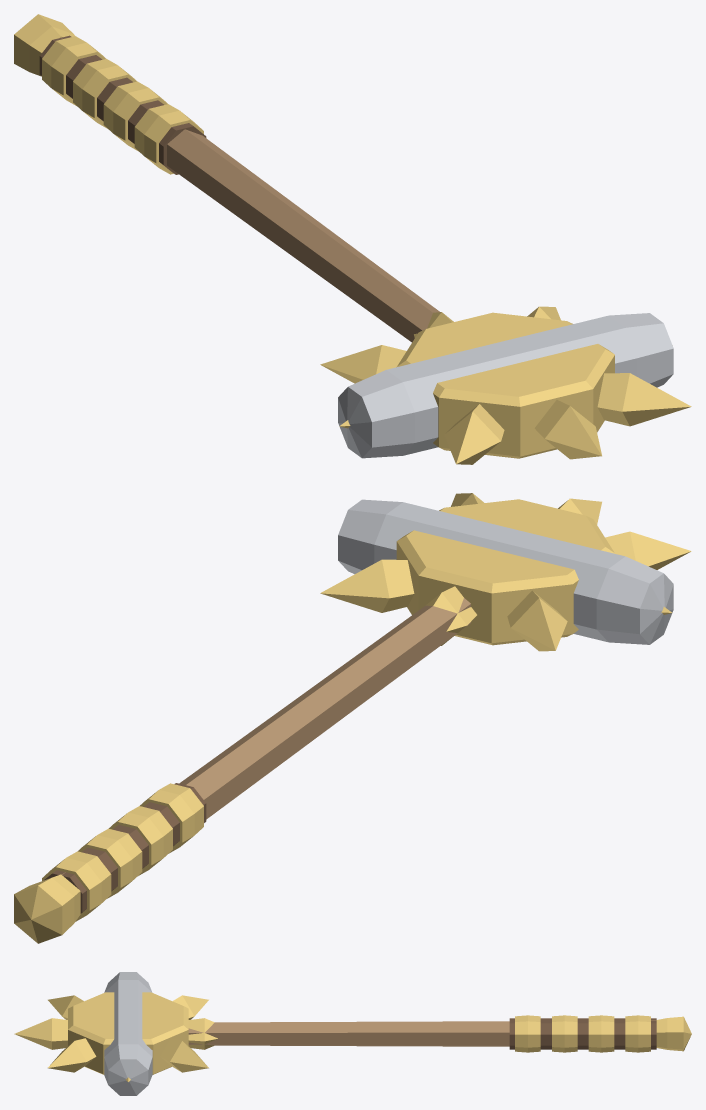
File: dawnbreaker.glb
The picture shows the model from 3 angles, top to bottom: view 1: azimuth 30°, elevation 25°; view 2: azimuth 150°, elevation 25°; view 3: azimuth 270°, elevation 25°; orthographic projection. The views are drawn at different scales.
Parts seen in each view (by area): view 1: dawnbreaker; view 2: dawnbreaker; view 3: dawnbreaker.
Part boxes in pixels (x1,y1,x2,y2): dawnbreaker: (14,14,691,464); dawnbreaker: (14,493,691,943); dawnbreaker: (14,972,691,1095).
Size of the model in its own units: 0.42 by 0.0887 by 1.25.
